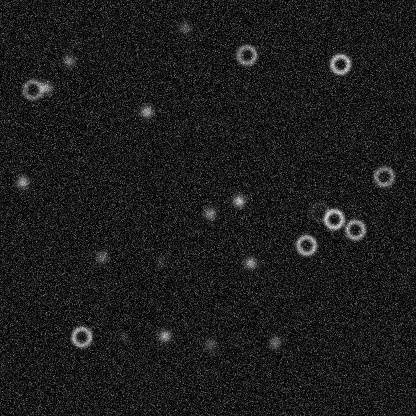Ring: (343, 217, 367, 241), (69, 324, 93, 348), (294, 232, 318, 256), (321, 207, 345, 231), (371, 164, 395, 188), (234, 42, 258, 66), (328, 51, 352, 75), (20, 77, 44, 101), (307, 199, 331, 223)
Spot: (230, 192, 246, 208), (202, 336, 218, 352), (156, 327, 172, 343), (93, 248, 109, 264), (176, 19, 192, 35), (152, 253, 168, 269), (61, 52, 77, 68), (266, 334, 282, 350), (138, 103, 154, 119), (14, 173, 30, 189), (114, 330, 130, 346), (201, 205, 217, 221), (242, 254, 258, 270), (37, 79, 53, 95)
